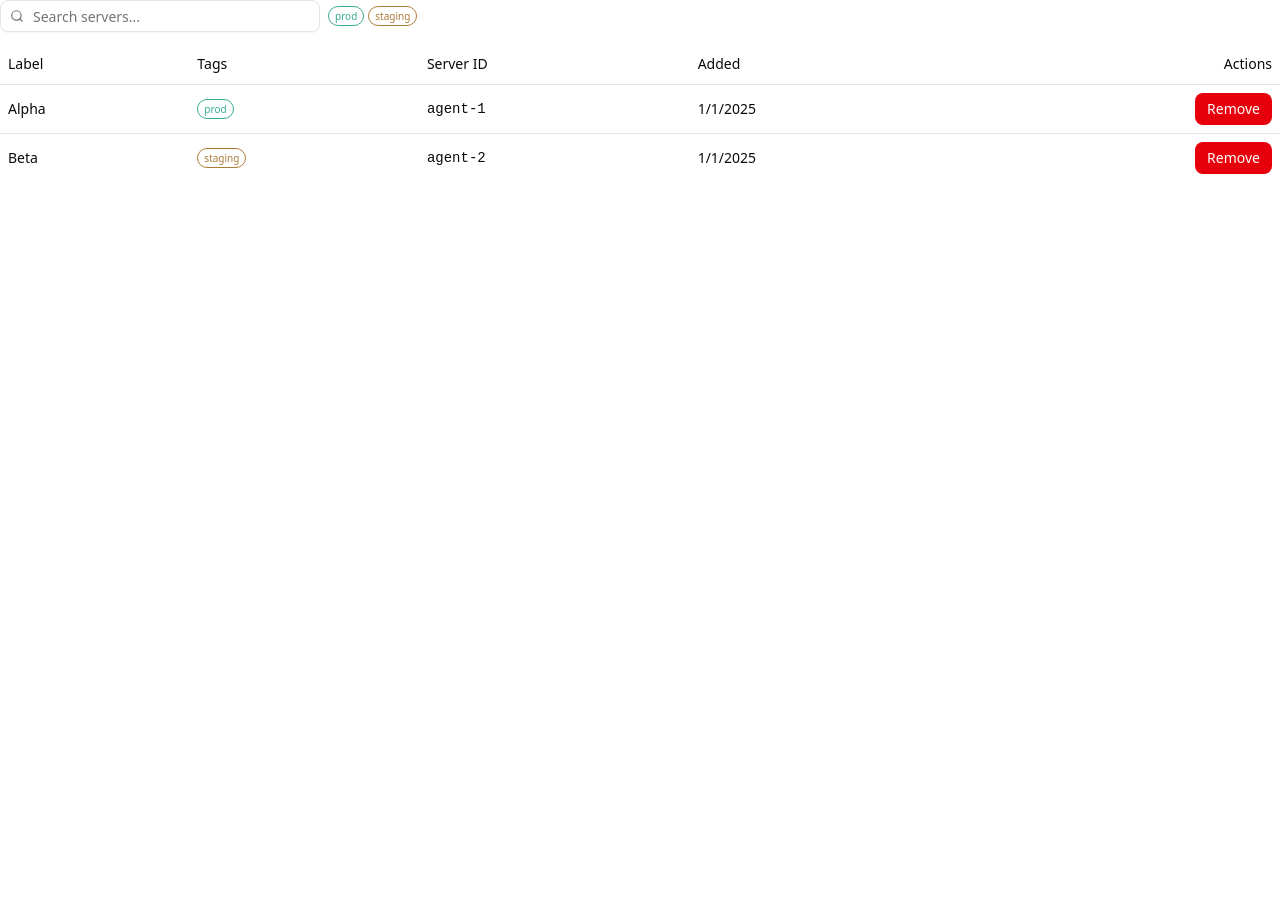
Test: ServerList › cancels delete dialog
The width and height of the screenshot is (1280, 900).
Click the button "Remove" in the row of "agent-1" at (1234, 108), box [1195,92,1272,124]
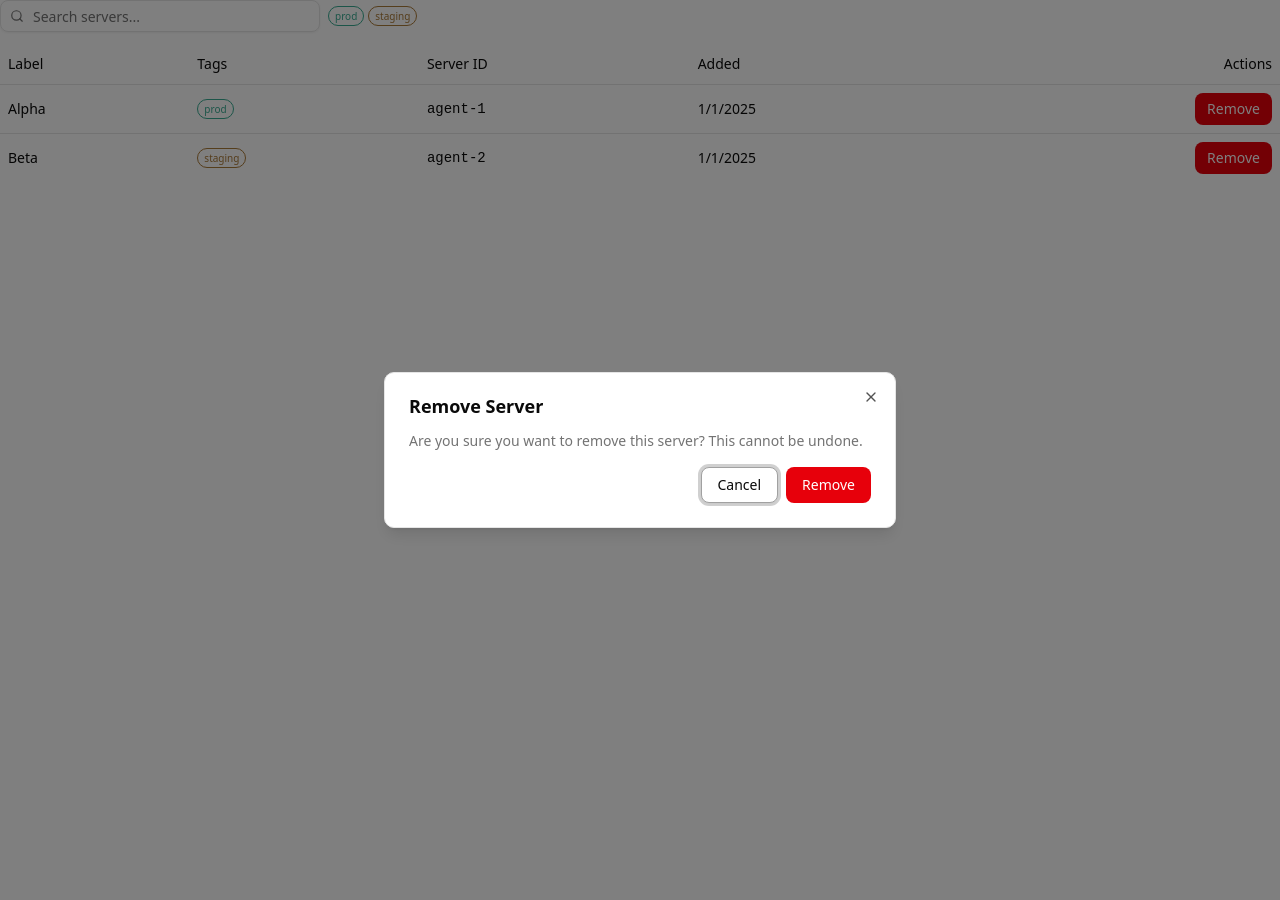
Check: the heading "Remove Server" is shown, box [409,394,543,418]
Click the button "Cancel" at (739, 485), box [700,467,778,503]
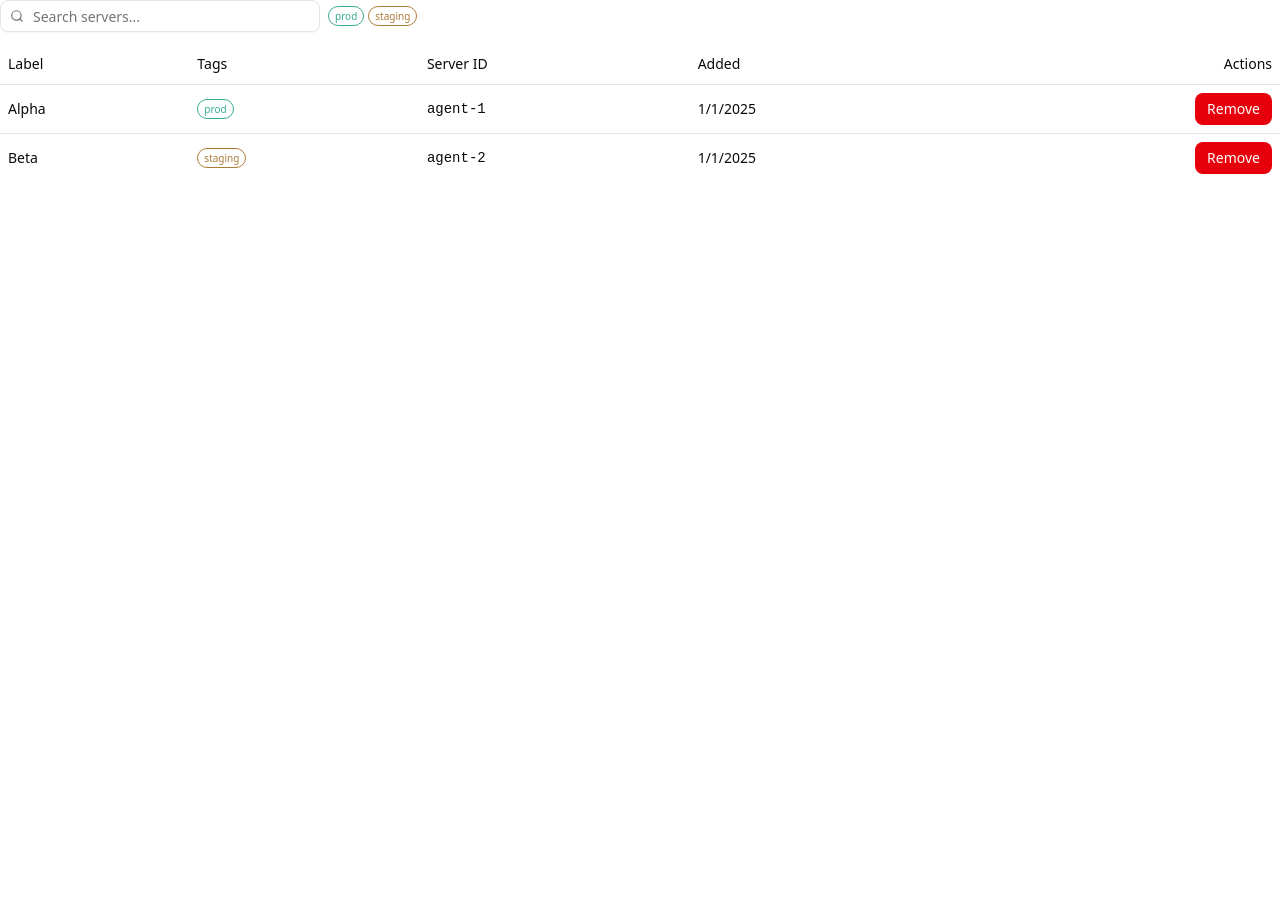
Check: the heading "Remove Server" is gone
